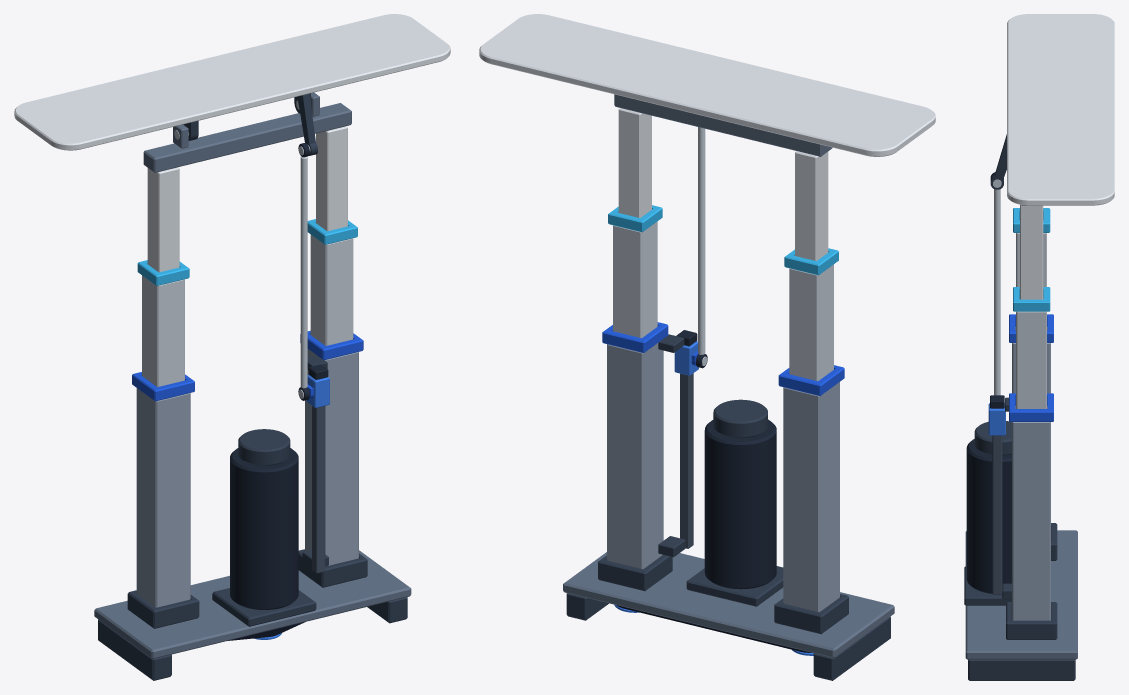
The model's file is TeslaActuatorClean.glb.
The picture shows the model from 3 angles, left to right: view 1: azimuth 30°, elevation 25°; view 2: azimuth 150°, elevation 25°; view 3: azimuth 270°, elevation 25°; orthographic projection. The views are drawn at different scales.
Visible parts, largest first — view 1: payload_plate, outer_column_l, motor_body, base_plate, outer_column_r, top_cradle_bar, stage_1_tube_r, stage_1_tube_l, stage_2_tube_l, stage_2_tube_r, guide_rail, link_rod_shaft (+11 smaller); view 2: payload_plate, outer_column_l, outer_column_r, motor_body, base_plate, stage_1_tube_l, stage_1_tube_r, stage_2_tube_l, stage_2_tube_r, top_cradle_bar, guide_rail, motor_cap (+10 smaller); view 3: payload_plate, outer_column_r, base_plate, motor_body, stage_1_tube_r, base_foot_r, stage_2_tube_r, guide_rail, link_rod_shaft, base_col_mount_r, outer_collar_r, motor_cap (+9 smaller).
Boxes of the visible parts, <box> form: payload_plate: <box>14,14,450,150</box>; outer_column_l: <box>136,388,190,607</box>; motor_body: <box>230,448,298,609</box>; base_plate: <box>94,550,411,658</box>; outer_column_r: <box>305,349,358,565</box>; top_cradle_bar: <box>143,103,351,172</box>; stage_1_tube_r: <box>310,234,353,345</box>; stage_1_tube_l: <box>142,275,184,386</box>; stage_2_tube_l: <box>147,167,179,272</box>; stage_2_tube_r: <box>316,126,347,231</box>; guide_rail: <box>312,406,324,573</box>; link_rod_shaft: <box>300,156,307,388</box>; payload_plate: <box>479,14,935,156</box>; outer_column_l: <box>783,382,839,612</box>; outer_column_r: <box>607,343,663,568</box>; motor_body: <box>704,419,776,589</box>; base_plate: <box>563,552,894,657</box>; stage_1_tube_l: <box>789,264,833,380</box>; stage_1_tube_r: <box>613,221,657,338</box>; stage_2_tube_l: <box>795,151,828,260</box>; stage_2_tube_r: <box>618,108,651,217</box>; top_cradle_bar: <box>614,94,832,156</box>; guide_rail: <box>680,373,693,548</box>; motor_cap: <box>713,399,767,438</box>; payload_plate: <box>1007,14,1114,205</box>; outer_column_r: <box>1012,406,1050,620</box>; base_plate: <box>965,530,1077,659</box>; motor_body: <box>966,439,1011,593</box>; stage_1_tube_r: <box>1016,299,1046,408</box>; base_foot_r: <box>968,659,1075,680</box>; stage_2_tube_r: <box>1020,204,1043,299</box>; guide_rail: <box>992,435,1002,594</box>; link_rod_shaft: <box>994,189,1000,395</box>; base_col_mount_r: <box>1006,602,1057,639</box>; outer_collar_r: <box>1009,393,1053,421</box>; motor_cap: <box>974,421,1011,455</box>.
Size of the model in its own units: 0.36 by 0.4652 by 0.123.
